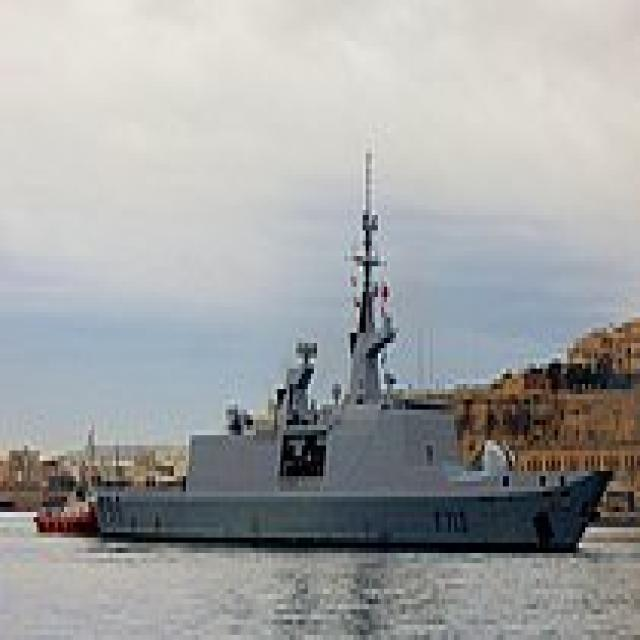Warship: (92, 143, 612, 553)
